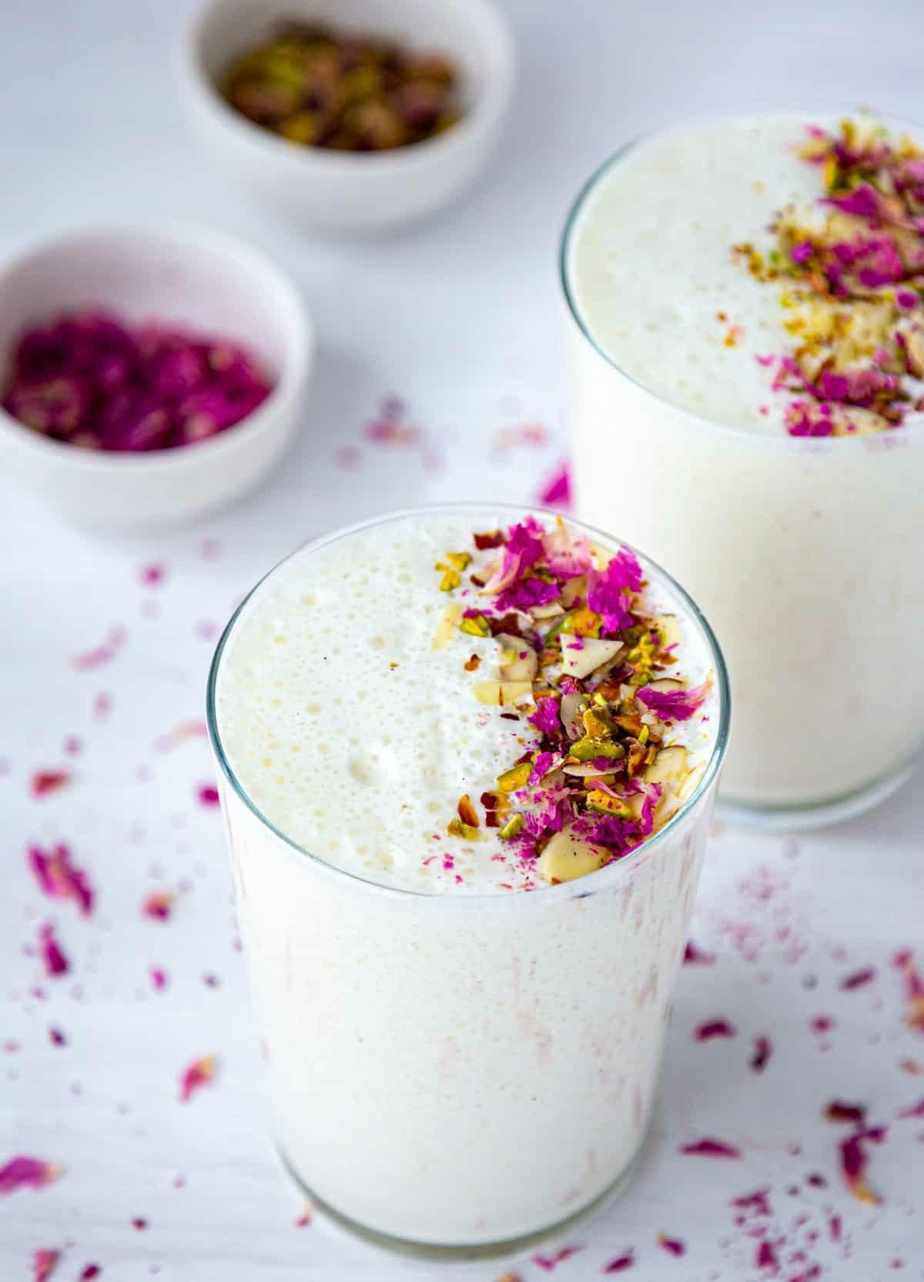Lassi: (215, 508, 721, 1240), (571, 114, 924, 806)
